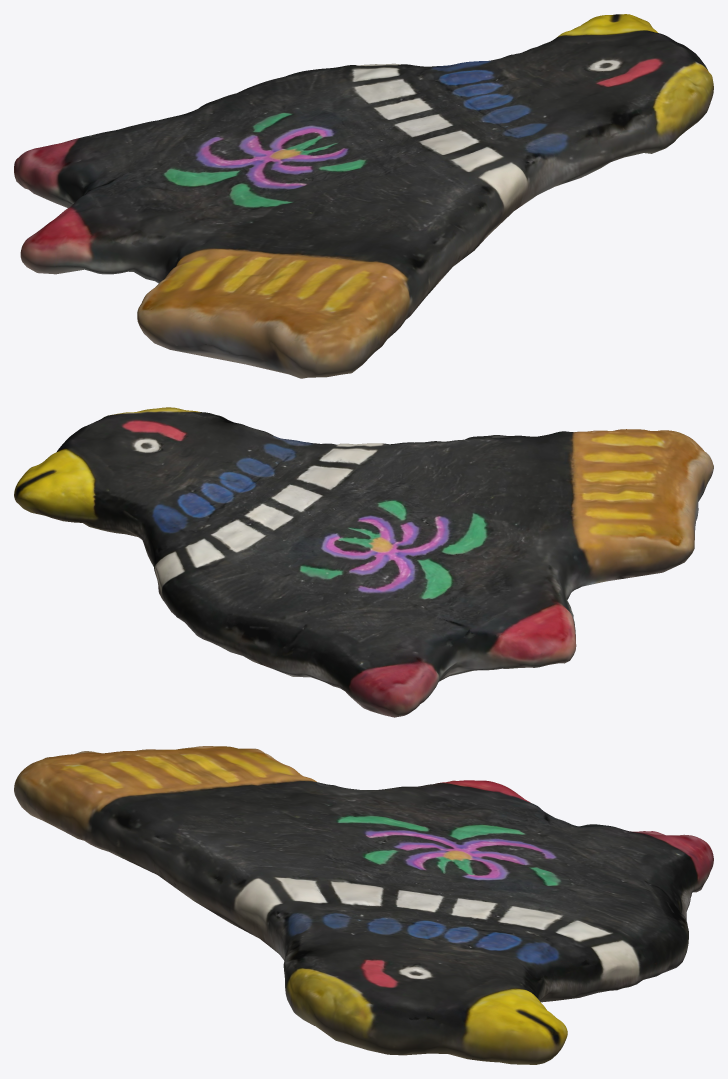
3 renders of one model, top to bottom at view 1: azimuth 30°, elevation 25°; view 2: azimuth 150°, elevation 25°; view 3: azimuth 270°, elevation 25°, orthographic. The views are drawn at different scales.
Size of the model in its own units: 0.8575 by 0.1539 by 0.7848.
1 material, 1 textured.
